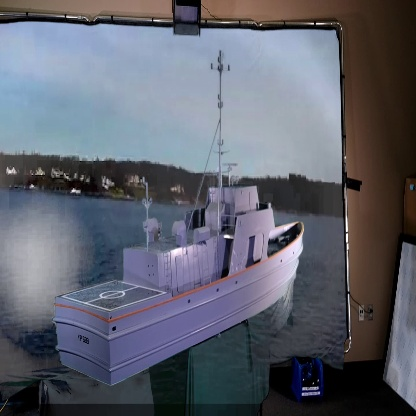YP689: (51, 52, 306, 390)
